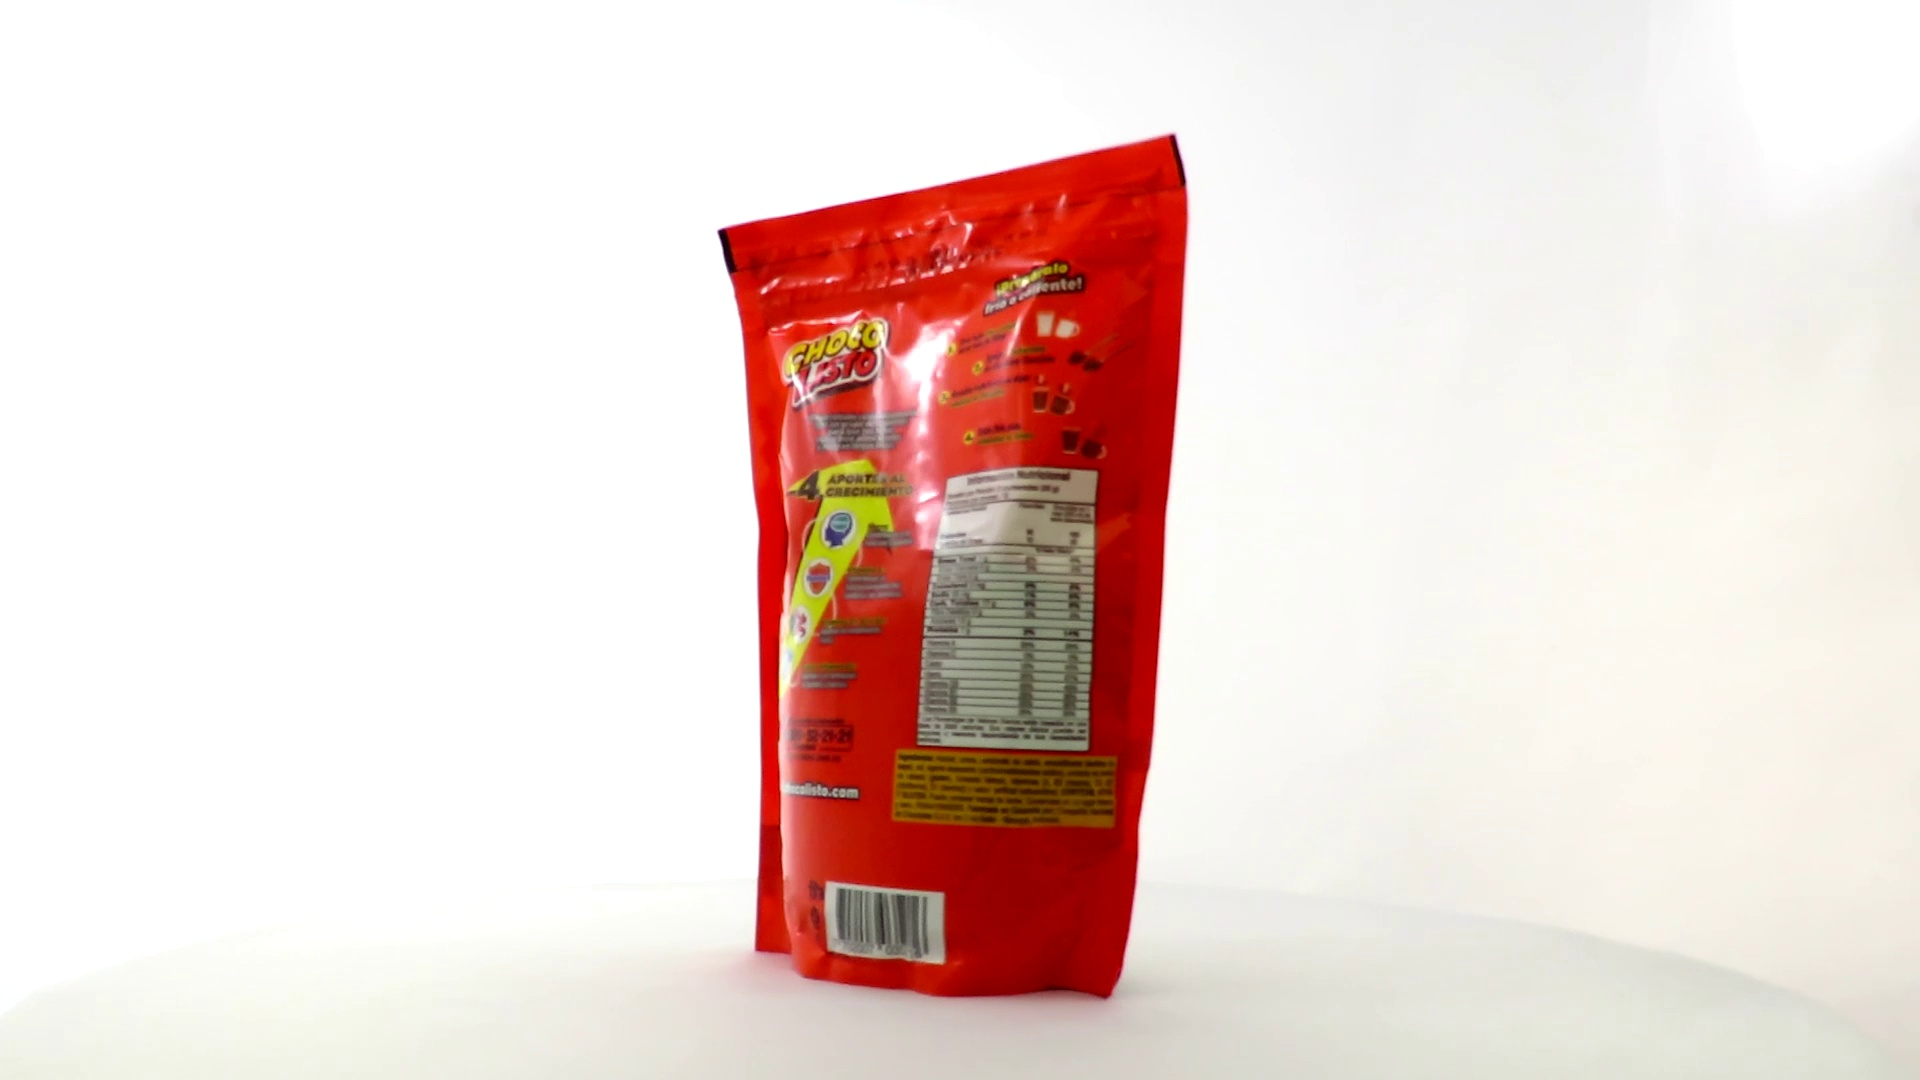COL0170103DYP36000: (712, 129, 1193, 1006)
